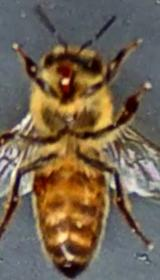varroa_mite: (20, 164, 54, 204)
